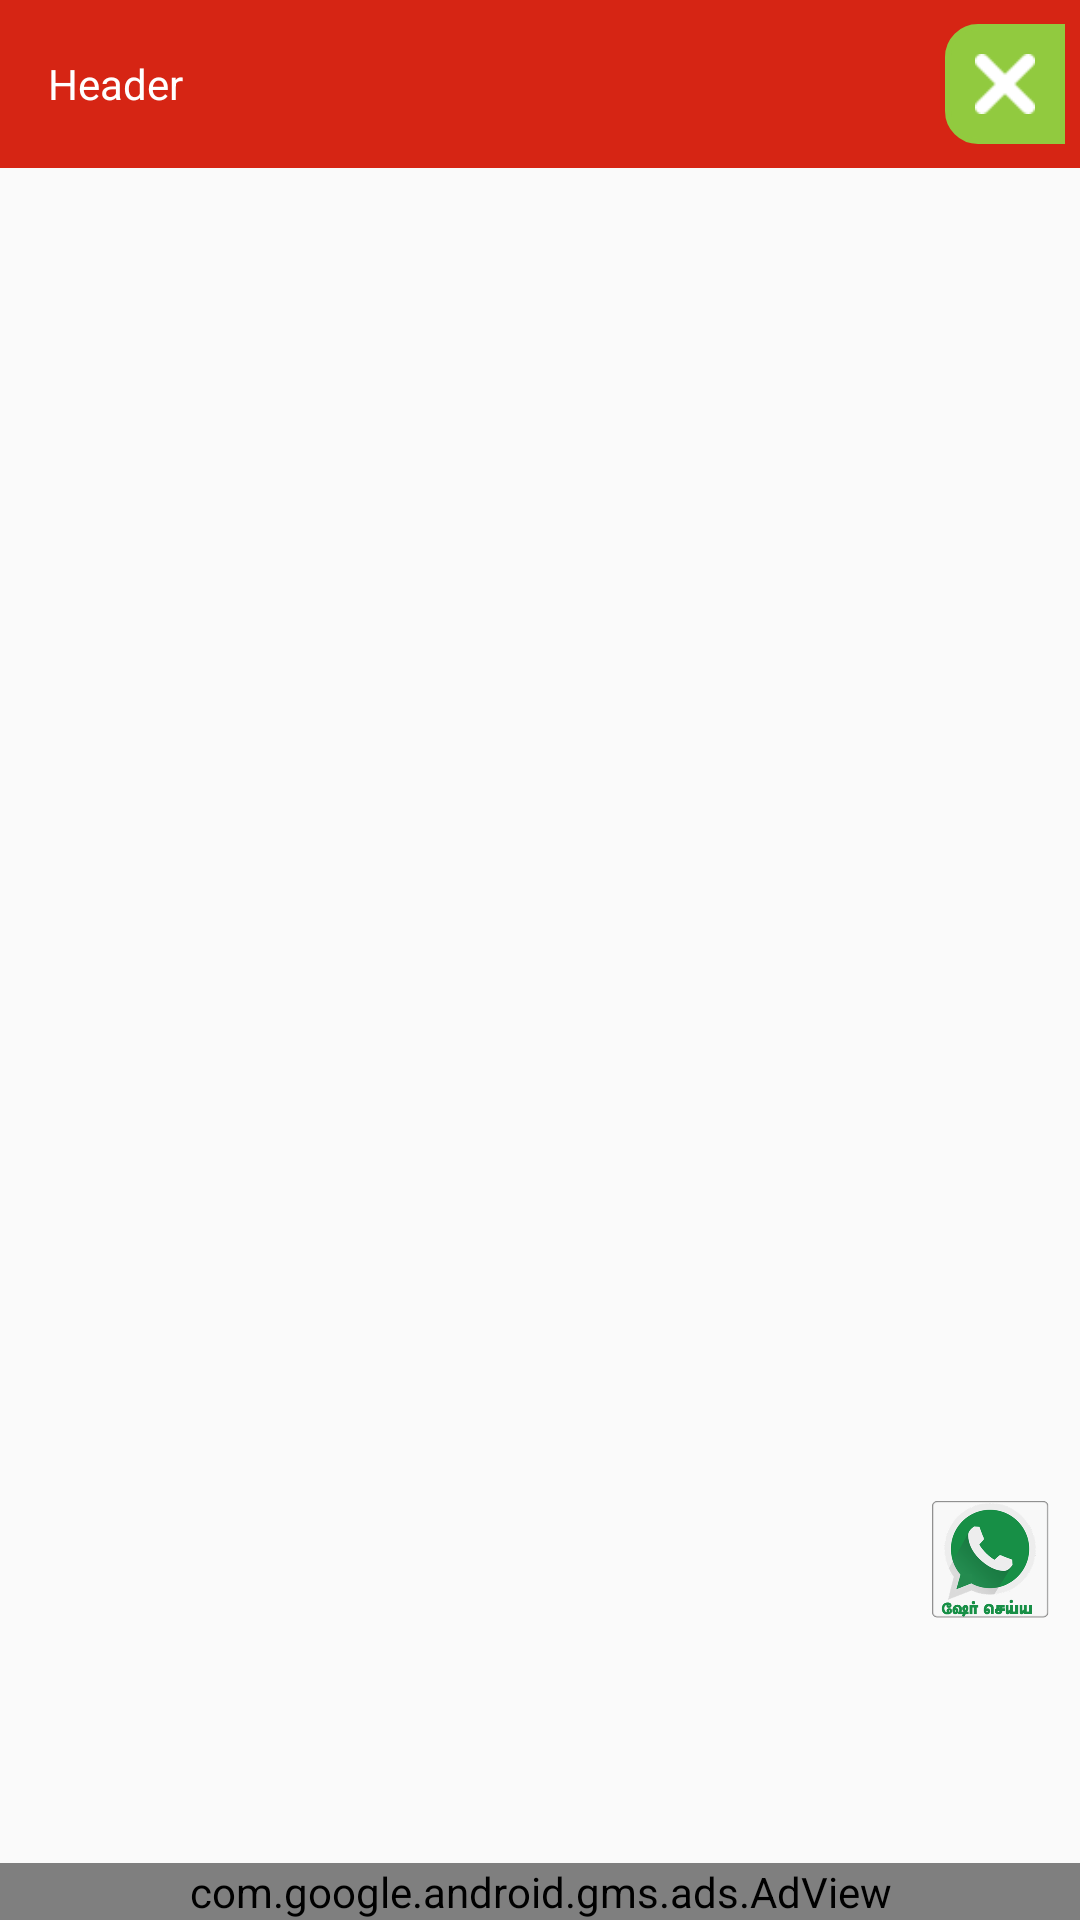

Icons on this 1080w x 1920h Android screen, each with its box as (x1, y1, x2, y2):
delete dialog: (975, 54, 1035, 114)
